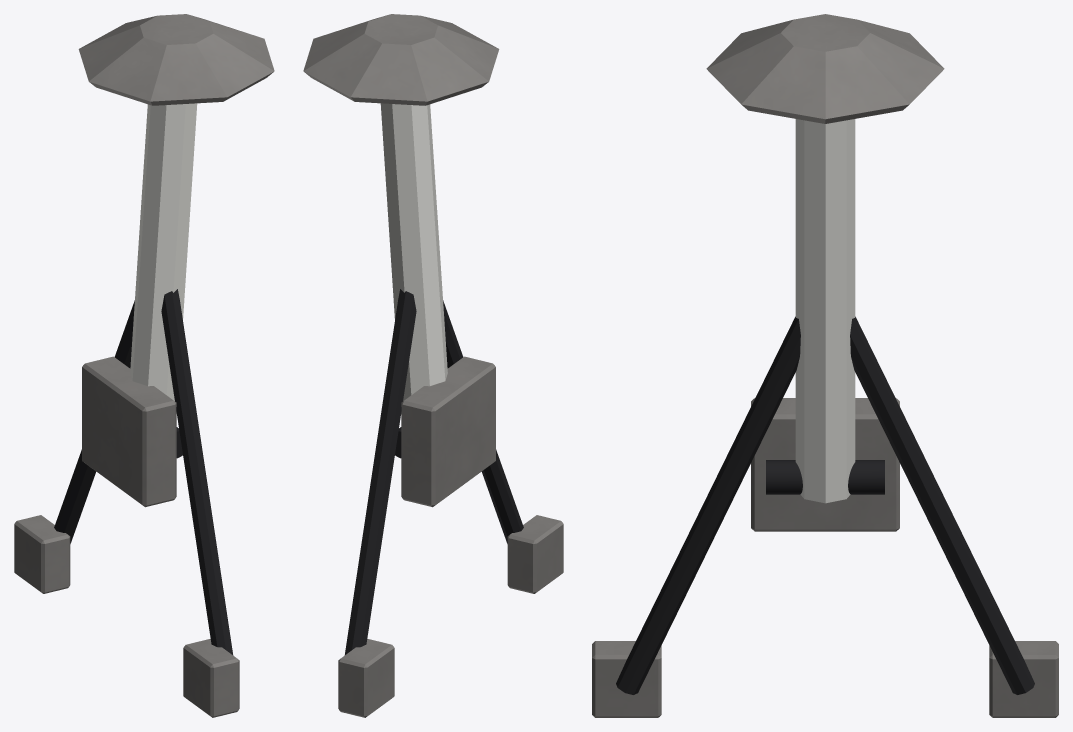
Rendered from ax_gear_04_lander_leg_m.glb.
3 renders of one model, left to right at view 1: azimuth 30°, elevation 25°; view 2: azimuth 150°, elevation 25°; view 3: azimuth 270°, elevation 25°, orthographic. The views are drawn at different scales.
Parts seen in each view (by area): view 1: leg_hinge_block, leg_footpad, leg_outer_tube, leg_secondary_struts; view 2: leg_hinge_block, leg_footpad, leg_outer_tube, leg_secondary_struts; view 3: leg_outer_tube, leg_secondary_struts, leg_footpad, leg_hinge_block, leg_hinge_pin.
Boxes of the visible parts, box(x1,y1,x2,y2) form: leg_hinge_block: box(14, 356, 239, 717); leg_footpad: box(78, 14, 274, 105); leg_outer_tube: box(130, 103, 197, 414); leg_secondary_struts: box(54, 289, 233, 655); leg_hinge_block: box(338, 356, 563, 717); leg_footpad: box(303, 14, 499, 105); leg_outer_tube: box(380, 103, 447, 414); leg_secondary_struts: box(344, 289, 523, 655); leg_outer_tube: box(795, 119, 855, 503); leg_secondary_struts: box(616, 316, 1034, 694); leg_footpad: box(706, 14, 944, 123); leg_hinge_block: box(592, 398, 1058, 717); leg_hinge_pin: box(766, 460, 884, 494).
Bounding box in the file's own units: 0.72 × 2.35 × 1.41.
5 materials, 3 textured.
